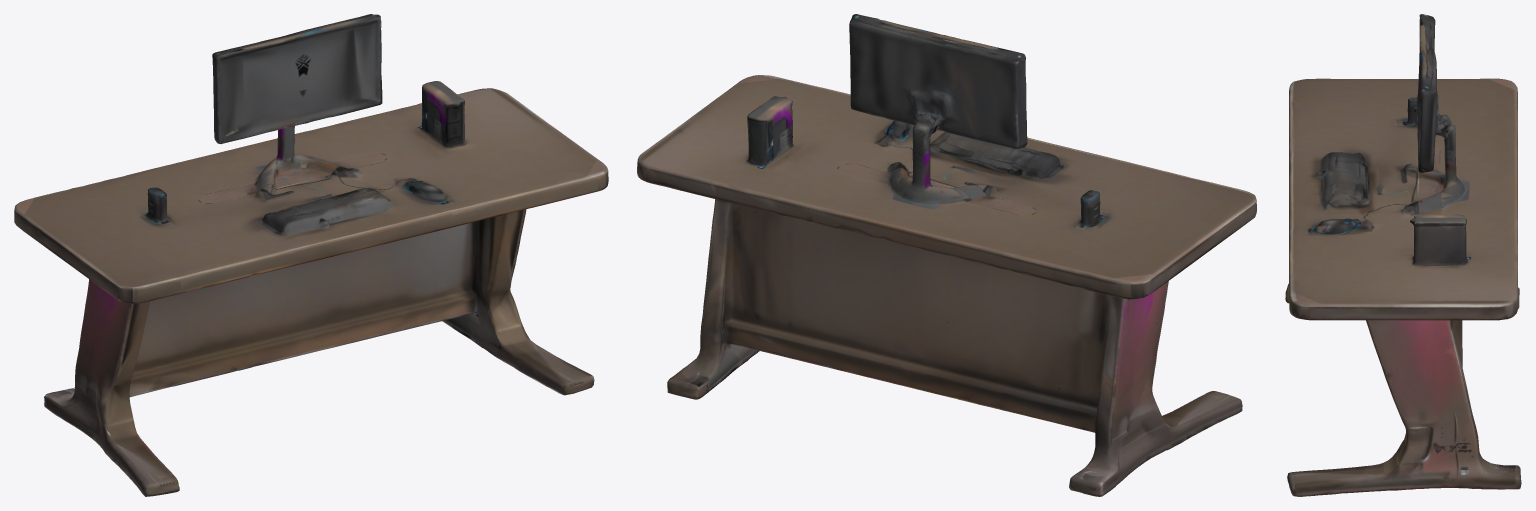
File: Esports desk.gltf
3 renders of one model, left to right at view 1: azimuth 30°, elevation 25°; view 2: azimuth 150°, elevation 25°; view 3: azimuth 270°, elevation 25°, orthographic. The views are drawn at different scales.
Visible parts, largest first — view 1: Mesh1.0; view 2: Mesh1.0; view 3: Mesh1.0.
Part boxes in pixels (<box>): Mesh1.0: <box>14,14,608,496</box>; Mesh1.0: <box>637,14,1256,496</box>; Mesh1.0: <box>1285,14,1521,496</box>.
Bounding box in the file's own units: 2.01 × 1.42 × 0.8798.
1 material, 1 textured.
